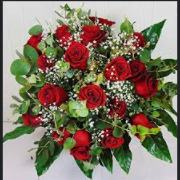RedRose: (62, 43, 96, 71), (31, 82, 66, 109), (77, 82, 106, 111), (127, 111, 157, 139), (36, 48, 64, 73), (104, 55, 129, 83), (71, 129, 94, 159), (97, 125, 123, 149), (79, 21, 107, 42), (50, 23, 76, 45), (135, 72, 157, 98), (129, 58, 153, 79), (52, 120, 70, 147), (108, 96, 127, 119), (24, 107, 42, 131), (25, 31, 46, 49), (131, 32, 147, 50)
